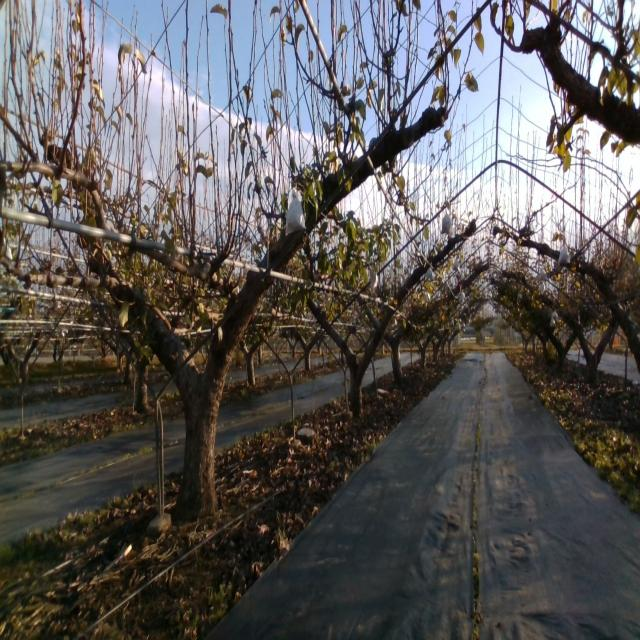pearbags: (285, 188, 307, 236), (440, 208, 456, 234), (558, 246, 572, 265)
